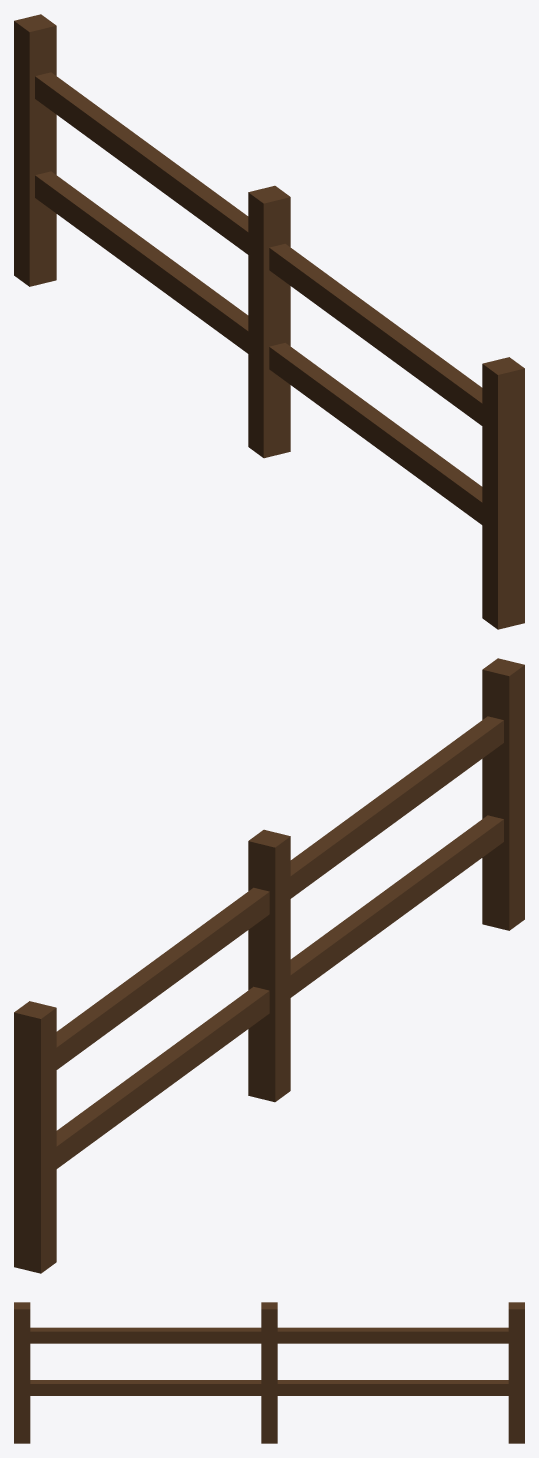
The model's file is fence.glb.
3 views of the same model, one above another, from view 1: azimuth 30°, elevation 25°; view 2: azimuth 150°, elevation 25°; view 3: azimuth 270°, elevation 25° (orthographic). The views are drawn at different scales.
Visible parts, largest first — view 1: fence; view 2: fence; view 3: fence.
Part boxes in pixels (<box>): fence: <box>14,14,524,629</box>; fence: <box>14,658,524,1273</box>; fence: <box>14,1302,524,1443</box>.
Bounding box in the file's own units: 0.1 × 0.9 × 3.1.
